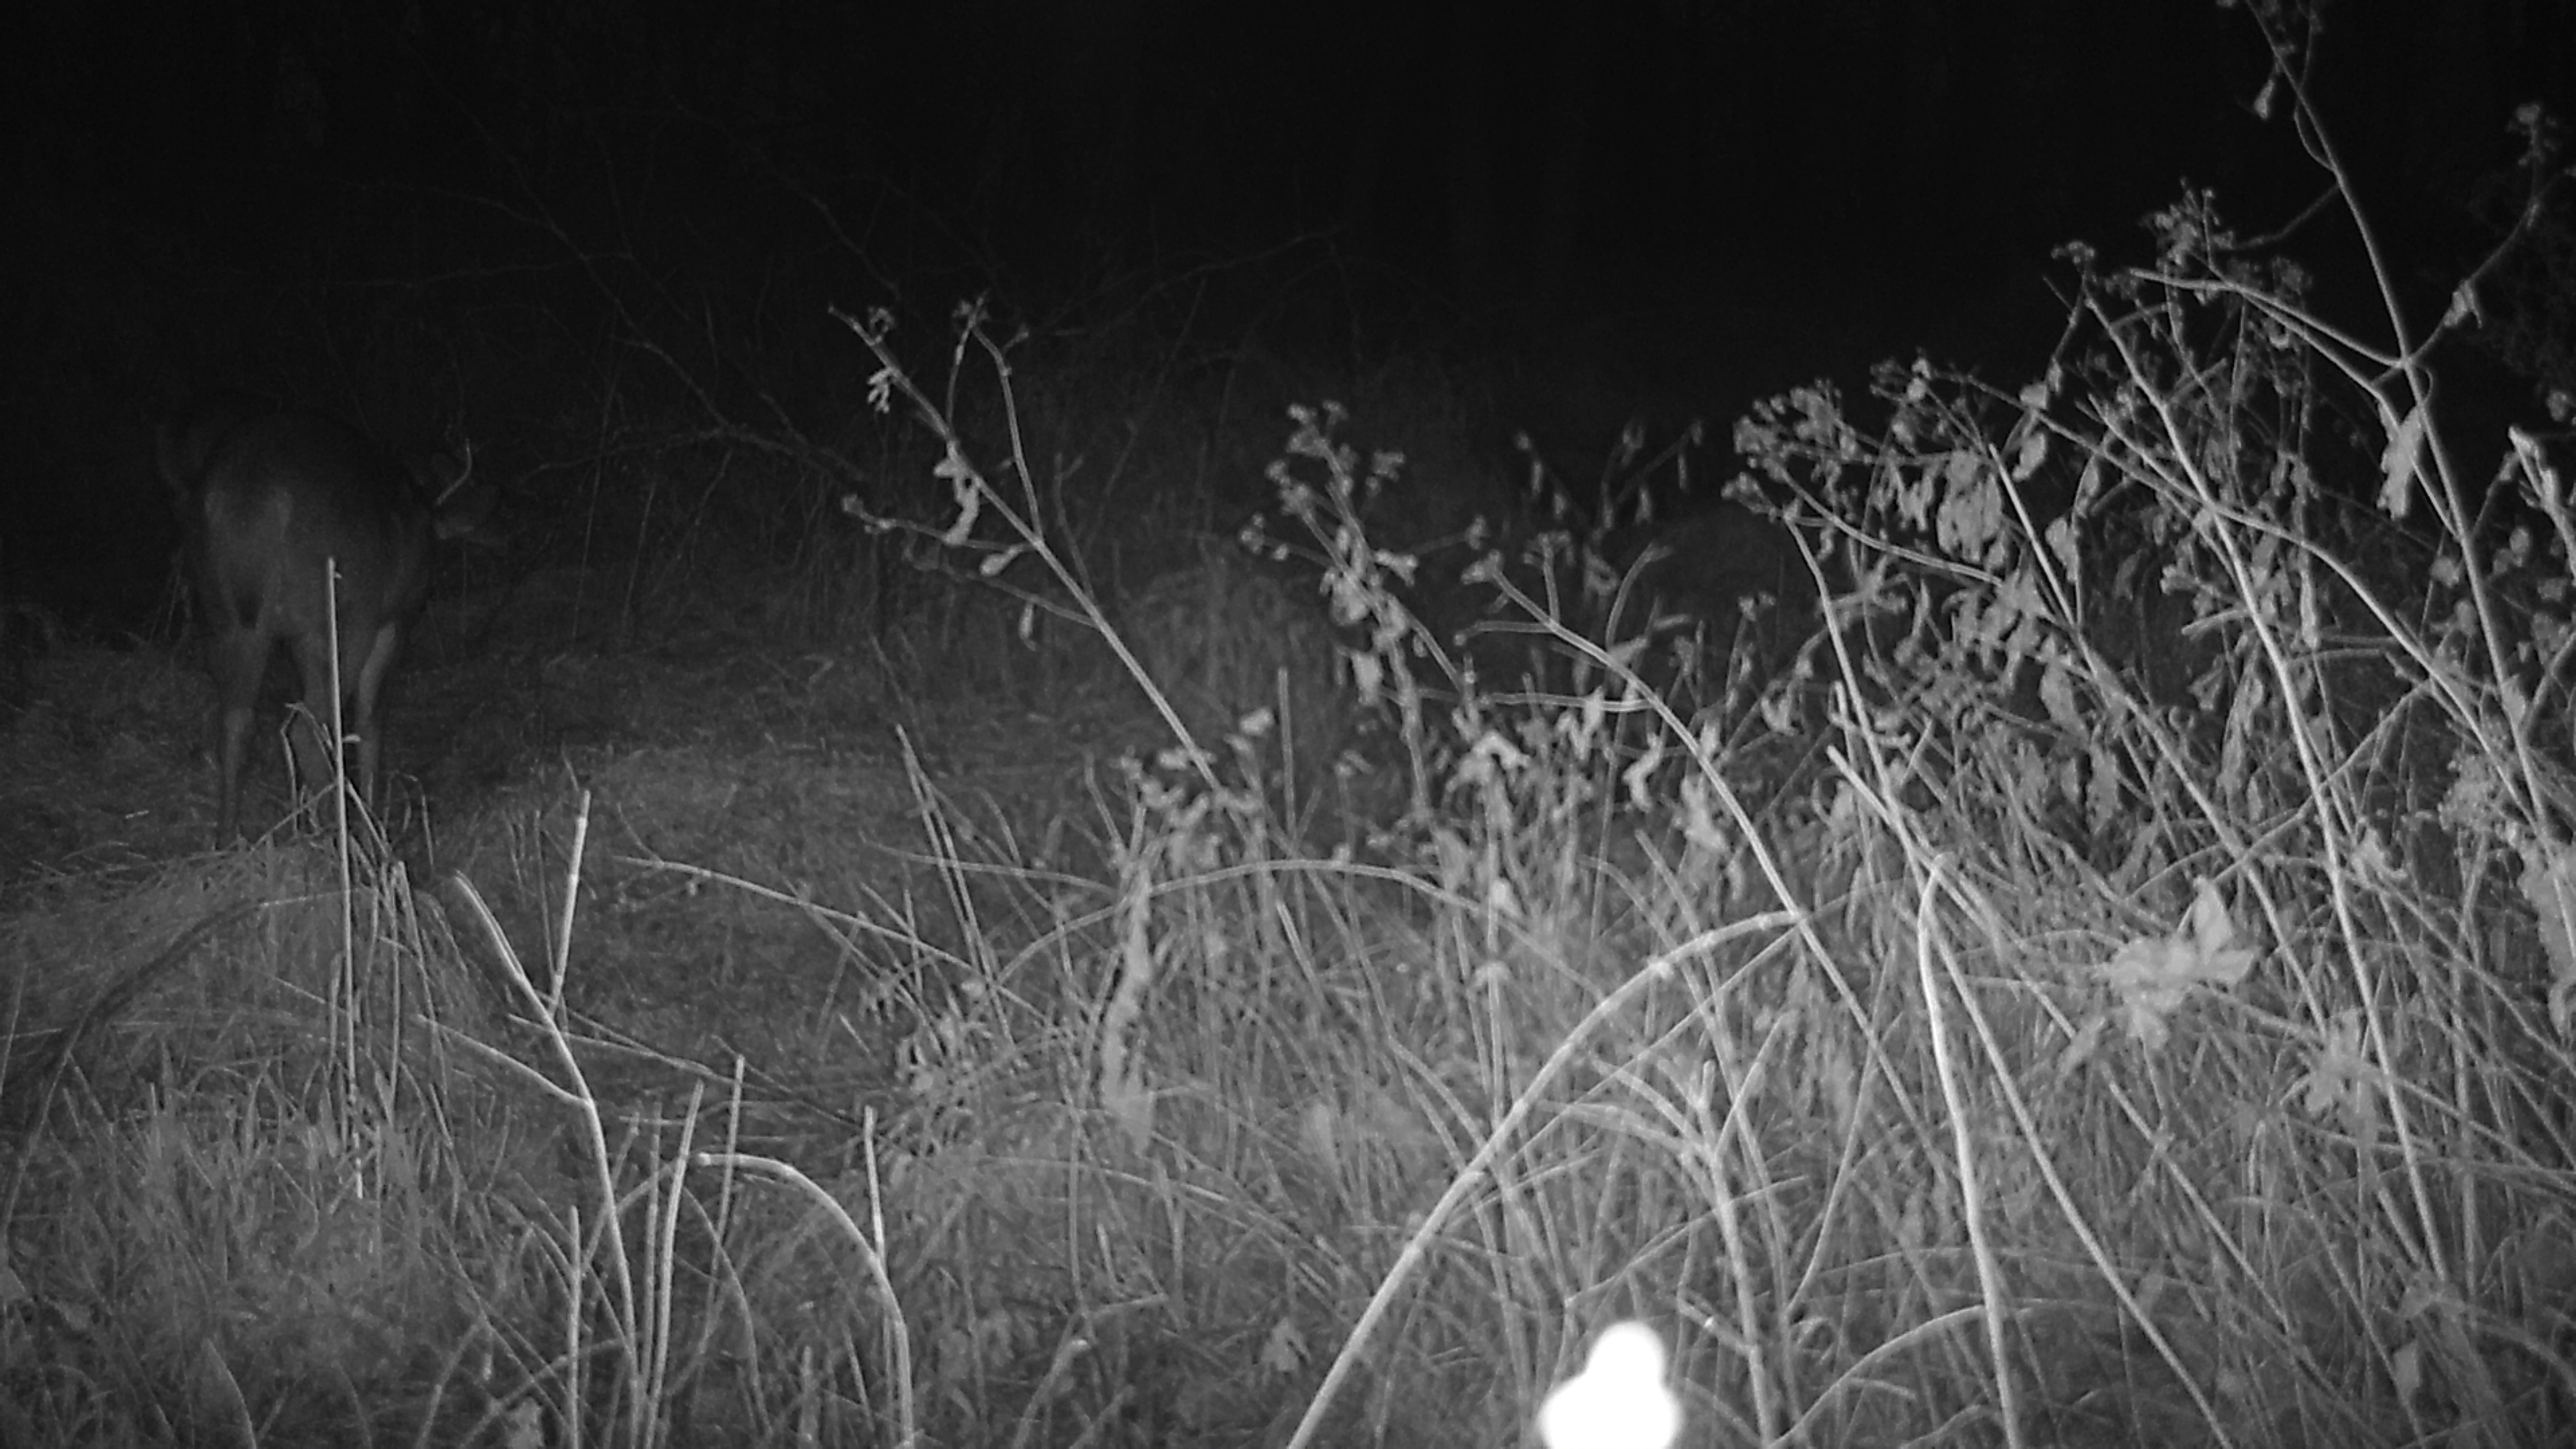DeerBuck: (193, 402, 509, 836)
DeerBuckHead: (396, 428, 509, 553)
